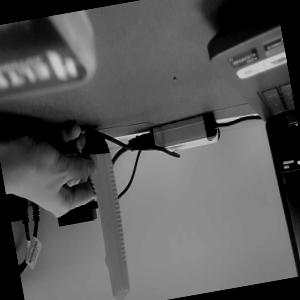estilete: (78, 124, 136, 300)
